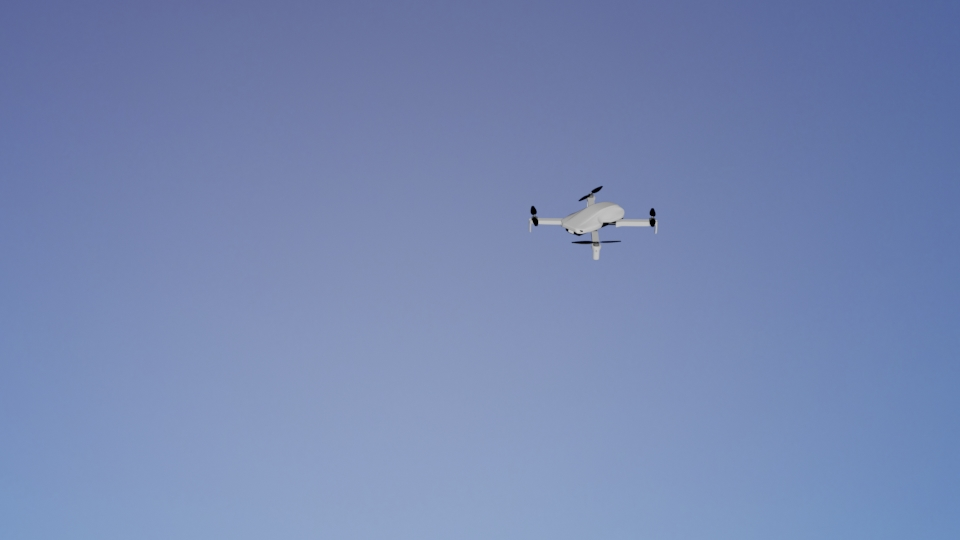drone: (517, 183, 660, 260)
